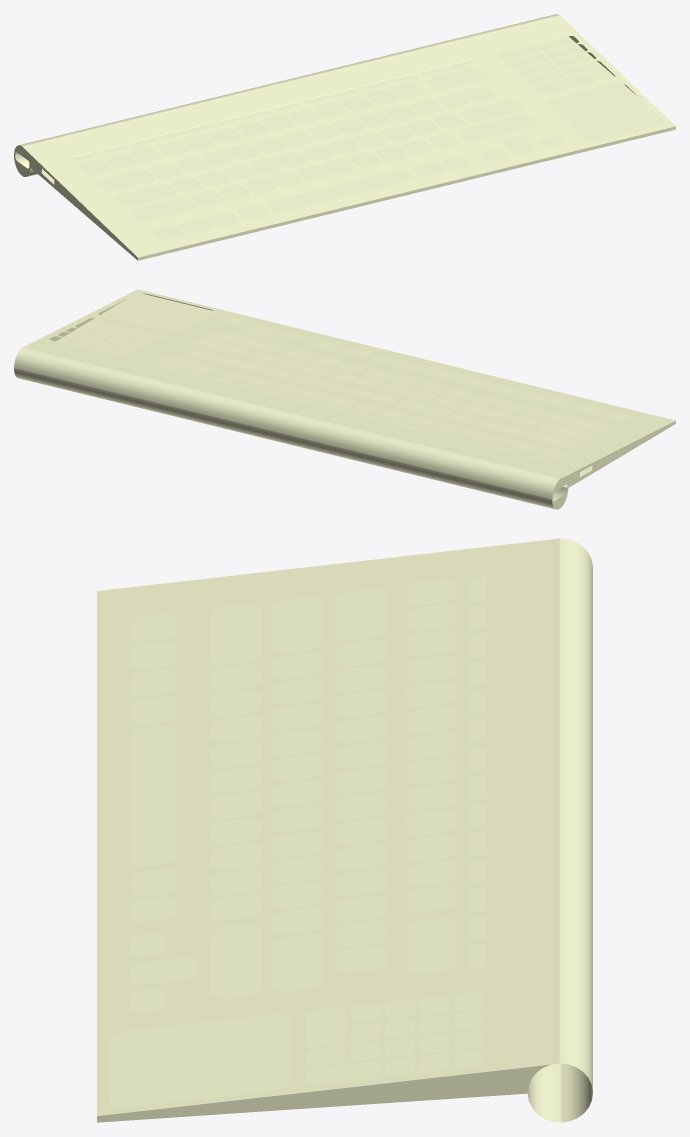
File: original-1.obj
The picture shows the model from 3 angles, top to bottom: view 1: azimuth 30°, elevation 25°; view 2: azimuth 150°, elevation 25°; view 3: azimuth 270°, elevation 25°; orthographic projection. The views are drawn at different scales.
Parts seen in each view (by area): view 1: #ID3216; view 2: #ID3216; view 3: #ID3216.
Part boxes in pixels (x1,y1,x2,y2): #ID3216: (14, 14, 675, 260); #ID3216: (14, 289, 675, 509); #ID3216: (97, 538, 592, 1122).
Size of the model in its own units: 1.86 by 0.0979 by 0.7426.
